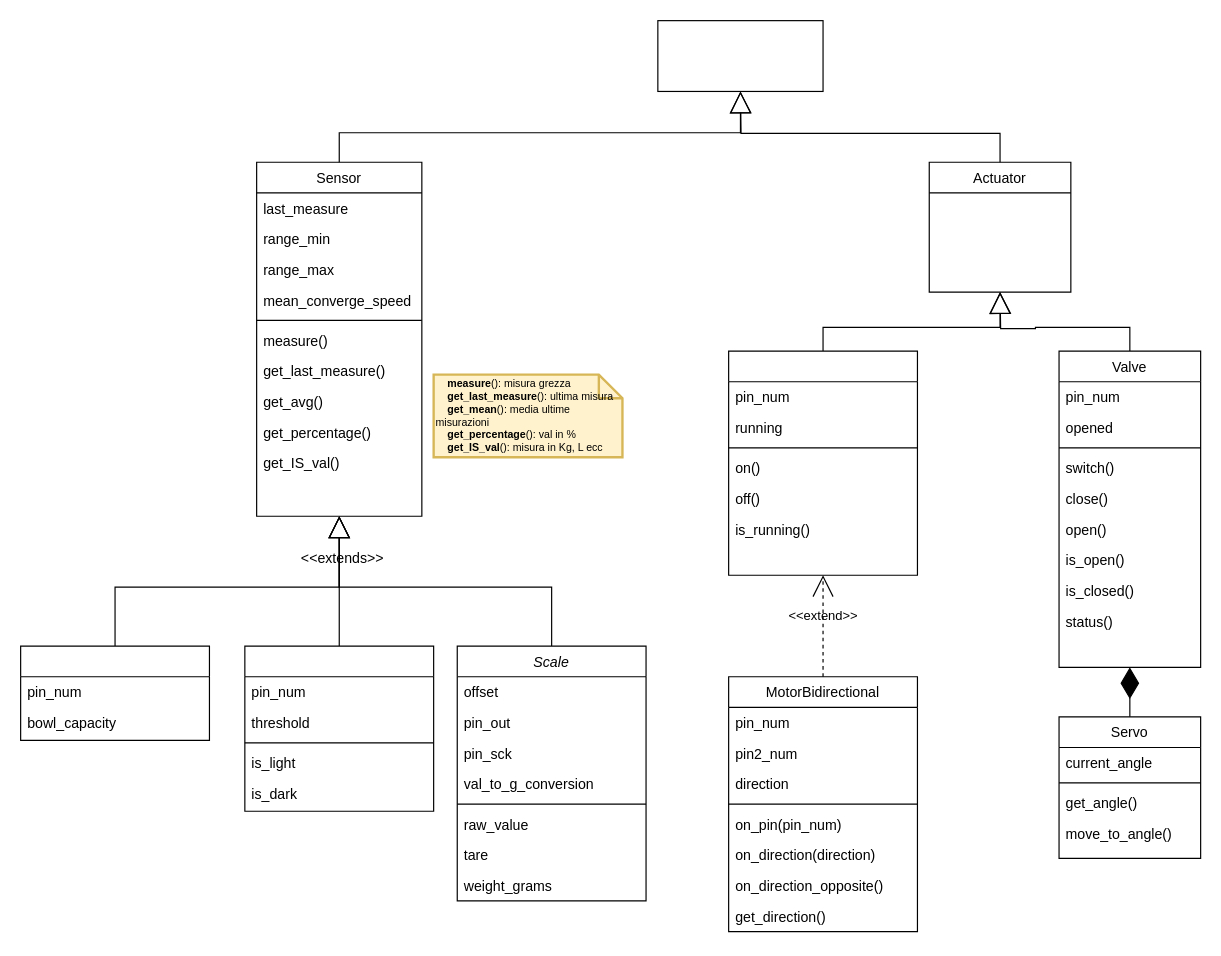
Image size: 1221x956. Some labels were removed from this diagram. The box of each missing label's shape, as (x1, y1, x2, y2) in pixels:
Device: (657, 19, 823, 91)
LightSensor: (244, 645, 434, 811)
Motor: (727, 350, 917, 575)
WaterSensor: (19, 645, 209, 740)
